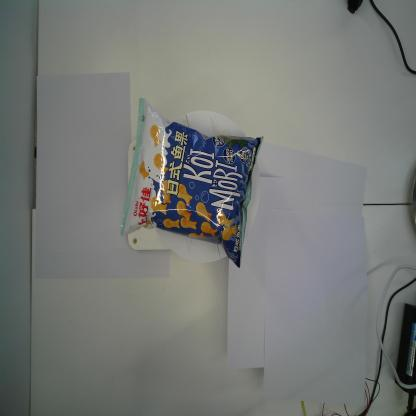Puffed Food: (119, 97, 264, 269)
